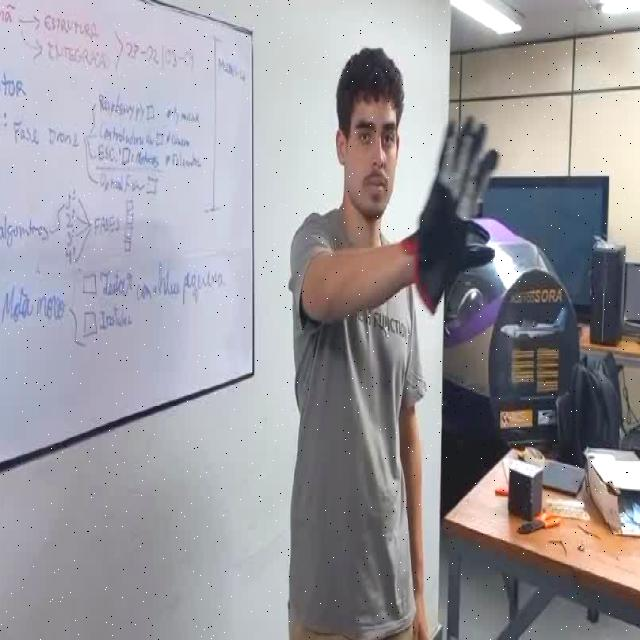Gloves: (416, 117, 500, 294)
